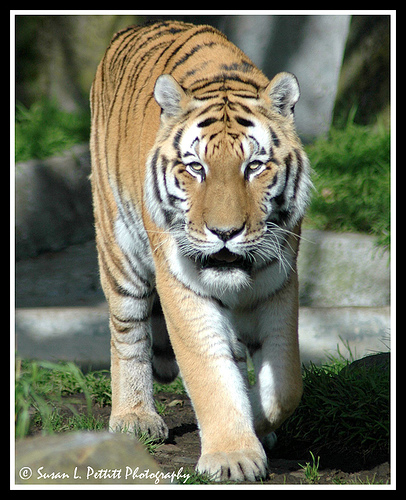Tigre: (86, 24, 355, 432)
